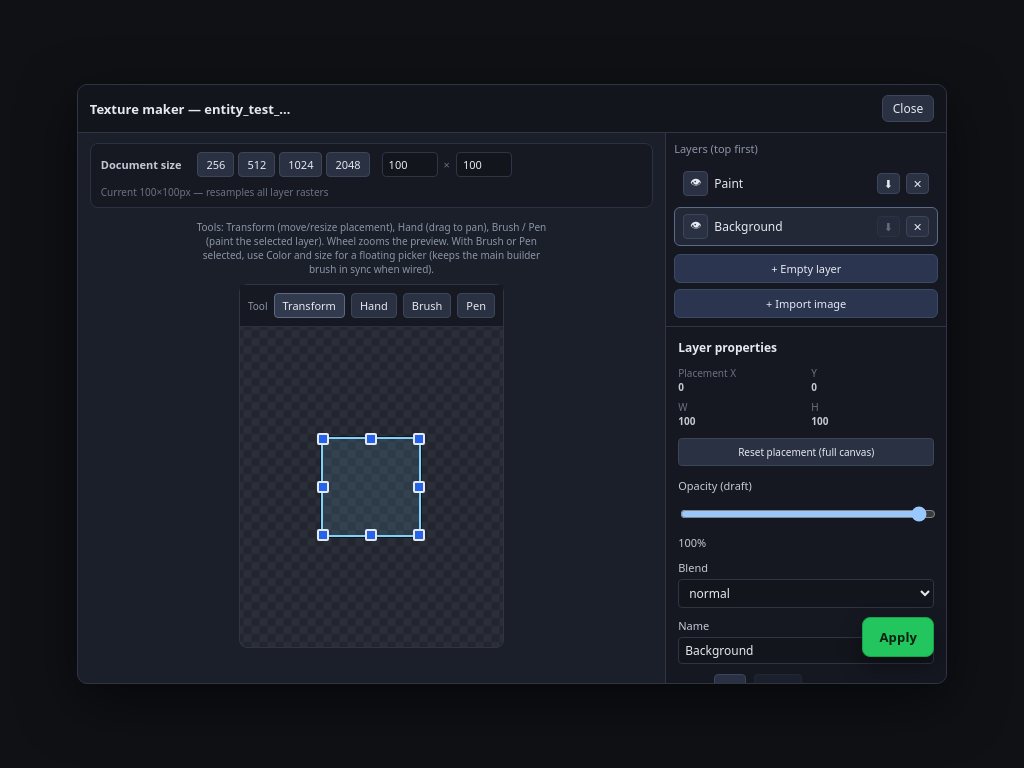
Test: TextureMaker (integration) › shows pen texel hint when Pen tool is active
This screenshot has width=1024, height=768.
Click the button with test id "texture-maker-tool-pen" at x=476, y=306, box top-left (457, 294), bottom-right (495, 318)
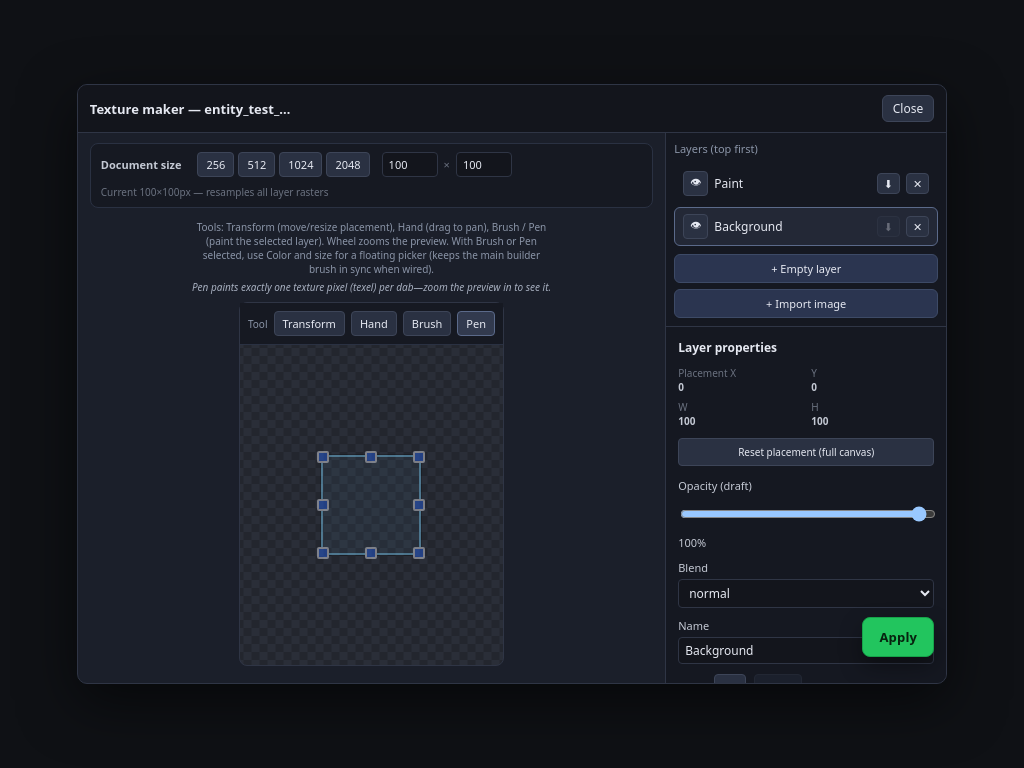
Expected: the text with test id "texture-maker-pen-texel-hint" is shown, top-left (192, 280), bottom-right (552, 294)
